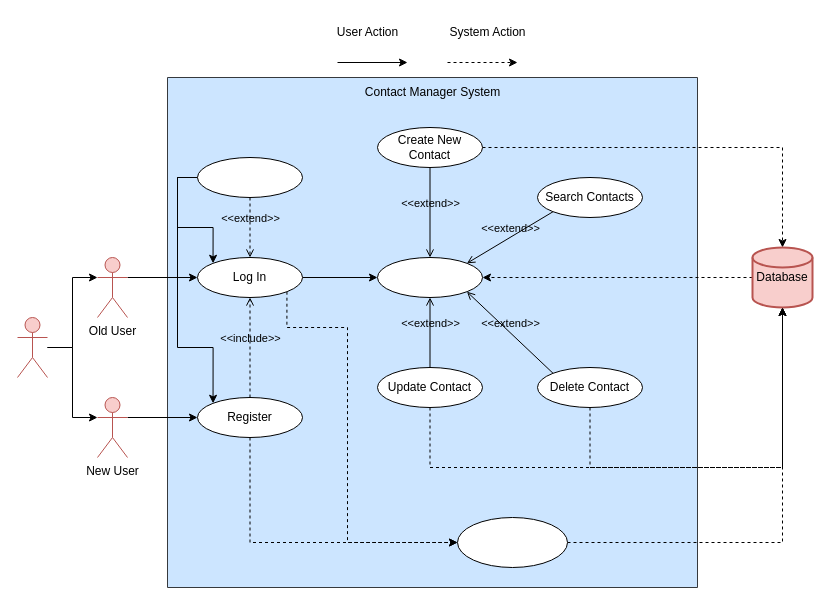
The diagram is 831 pixels wide and 605 high, and some of its shapes have lost their labels. The box of each missing label's shape, as (x1, y1, x2, y2) in pixels:
Hash and Salt Password: (456, 516, 568, 568)
invalid Login: (196, 156, 302, 198)
User: (16, 316, 48, 378)
View Contact list: (376, 256, 482, 298)
